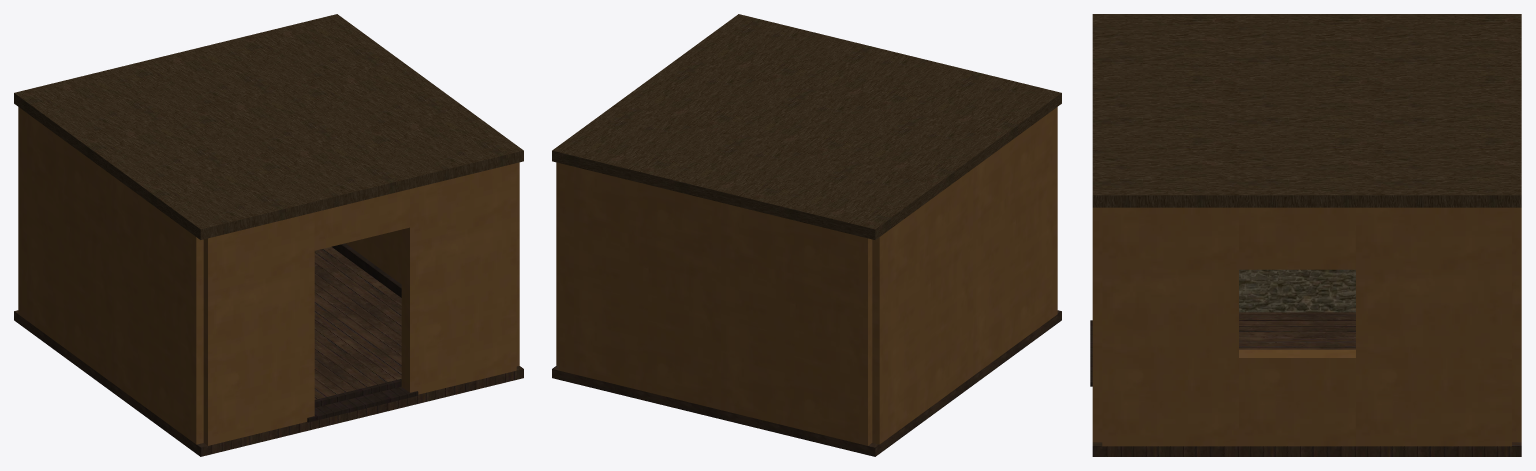
File: int_forest_cottage_01.glb
3 renders of one model, left to right at view 1: azimuth 30°, elevation 25°; view 2: azimuth 150°, elevation 25°; view 3: azimuth 270°, elevation 25°, orthographic. The views are drawn at different scales.
Visible parts, largest first — view 1: int_forest_cottage_01; view 2: int_forest_cottage_01; view 3: int_forest_cottage_01.
Part boxes in pixels (x1,y1,x2,y2): int_forest_cottage_01: [14, 14, 523, 456]; int_forest_cottage_01: [552, 14, 1061, 456]; int_forest_cottage_01: [1090, 14, 1521, 456].
Bounding box in the file's own units: 4.4 × 2.96 × 4.42.
6 materials, 5 textured.
